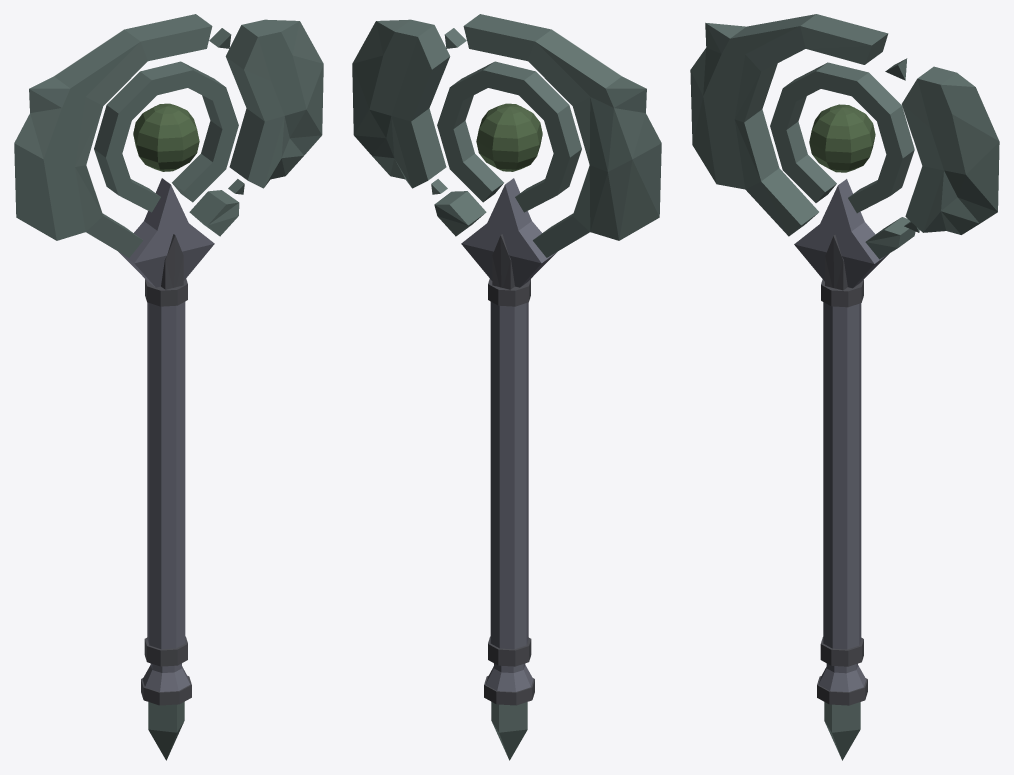
The model's file is _hammer_21.fbx.
3 renders of one model, left to right at view 1: azimuth 30°, elevation 25°; view 2: azimuth 150°, elevation 25°; view 3: azimuth 330°, elevation 25°, orthographic.
Visible parts, largest first — view 1: hammer_21; view 2: hammer_21; view 3: hammer_21.
Part boxes in pixels (<box>): hammer_21: <box>14,14,323,760</box>; hammer_21: <box>352,14,661,760</box>; hammer_21: <box>690,14,999,760</box>.
Size of the model in its own units: 33.57 by 76.04 by 6.47.
